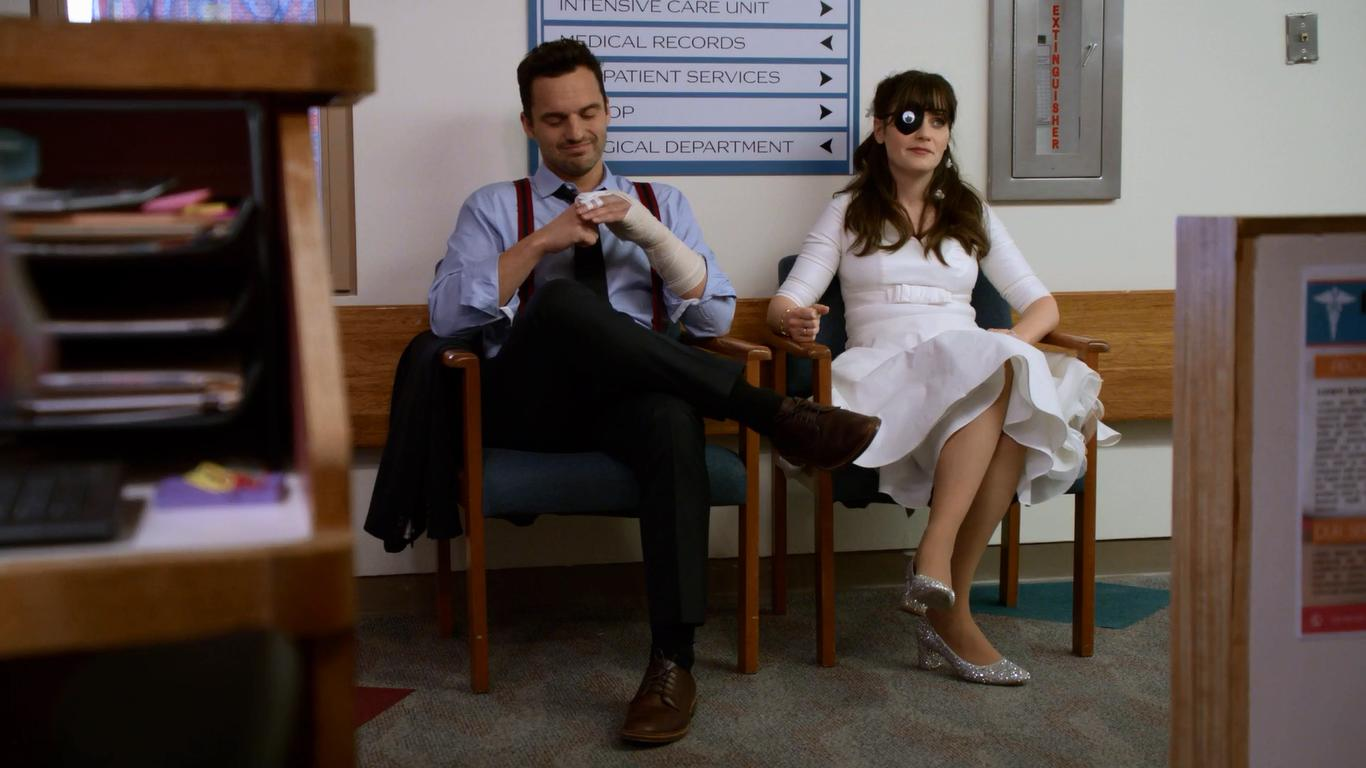person: (440, 38, 832, 729), (800, 67, 1102, 682)
